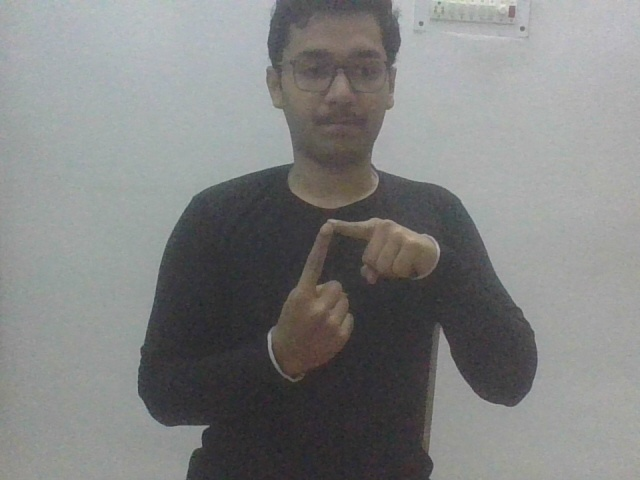I: (263, 214, 443, 380)
